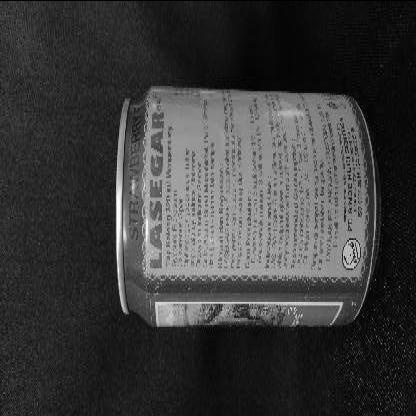alumunium_can: (116, 86, 381, 326)
